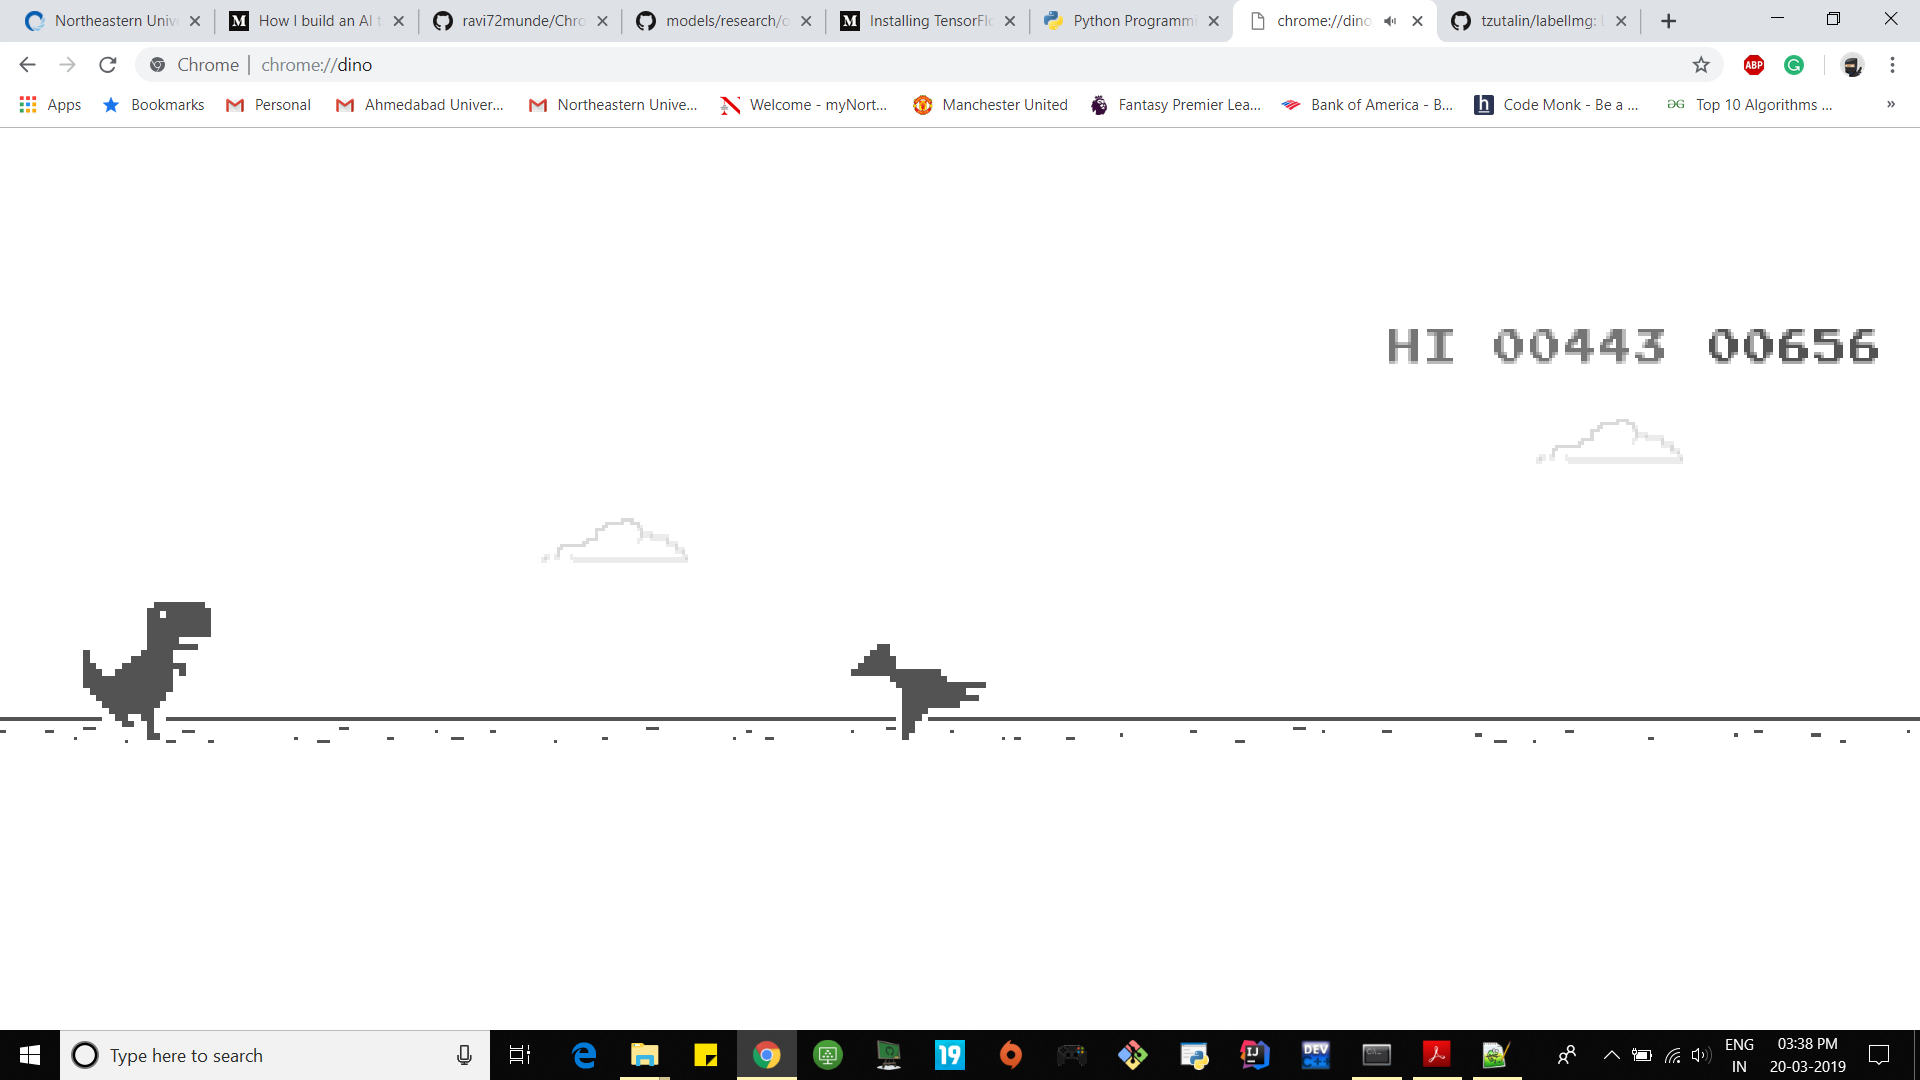bird: (852, 641, 992, 744)
dino: (83, 601, 208, 740)
